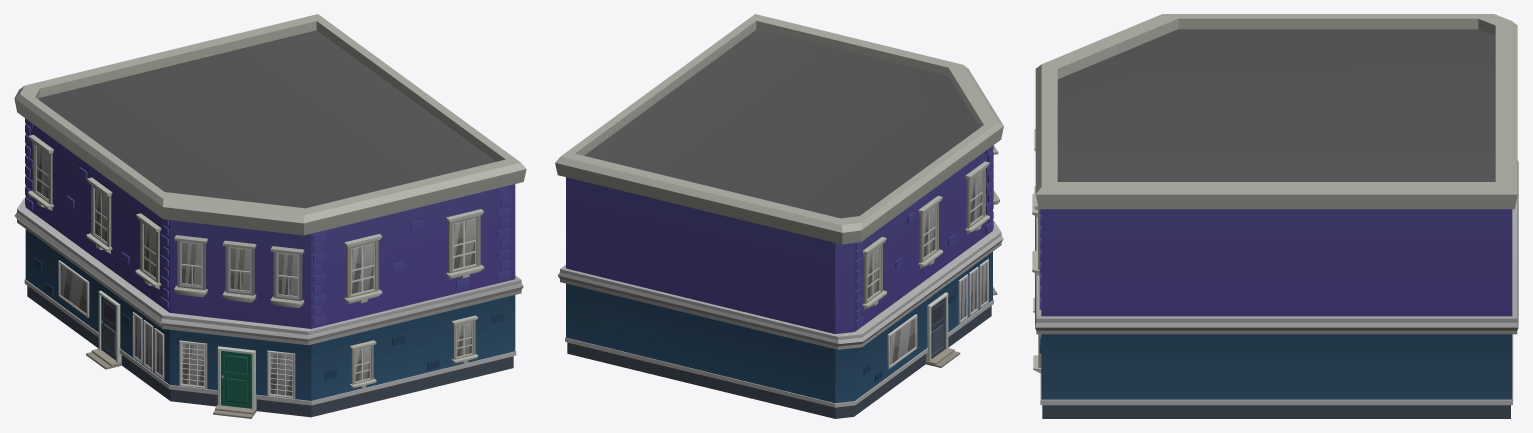
The model's file is Building_25_4_E.fbx.
3 views of the same model, side by side, from view 1: azimuth 30°, elevation 25°; view 2: azimuth 150°, elevation 25°; view 3: azimuth 270°, elevation 25° (orthographic). The views are drawn at different scales.
Visible parts, largest first — view 1: Building_25_4_E; view 2: Building_25_4_E; view 3: Building_25_4_E.
Boxes of the visible parts, x1,y1,x2,y2 form: Building_25_4_E: (14,14,526,418); Building_25_4_E: (555,14,1003,418); Building_25_4_E: (1032,14,1518,418).
Size of the model in its own units: 1291 by 793 by 1479.
